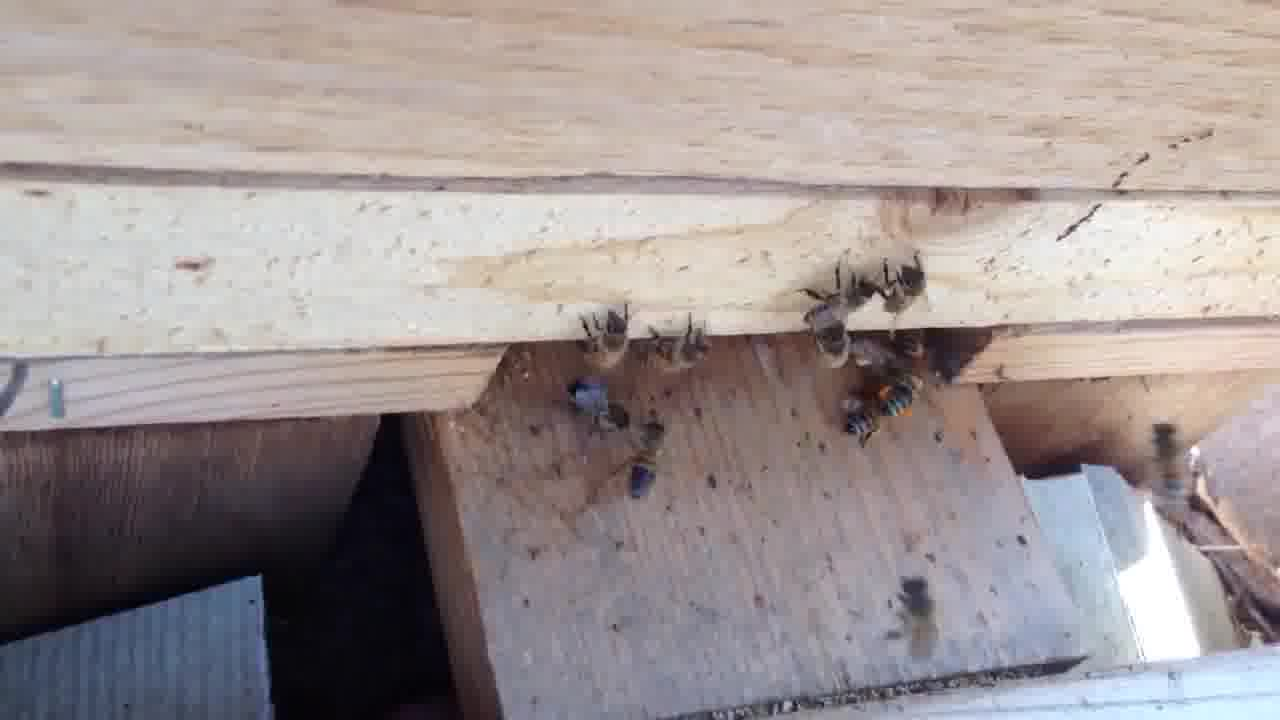pollen: (874, 370, 927, 416)
